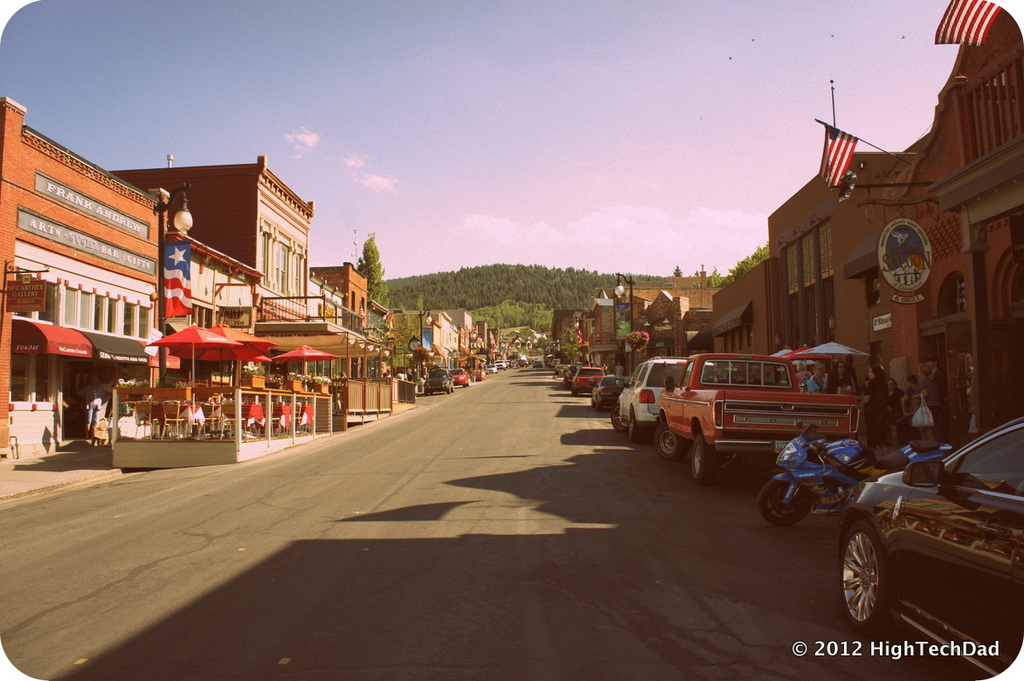Car: (830, 419, 1017, 633), (615, 359, 698, 441), (568, 365, 602, 395), (591, 373, 617, 410)
